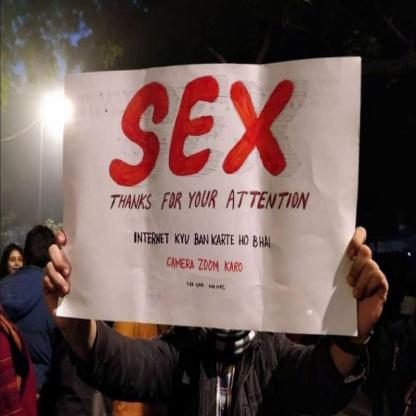BANNER: (56, 57, 362, 335)
